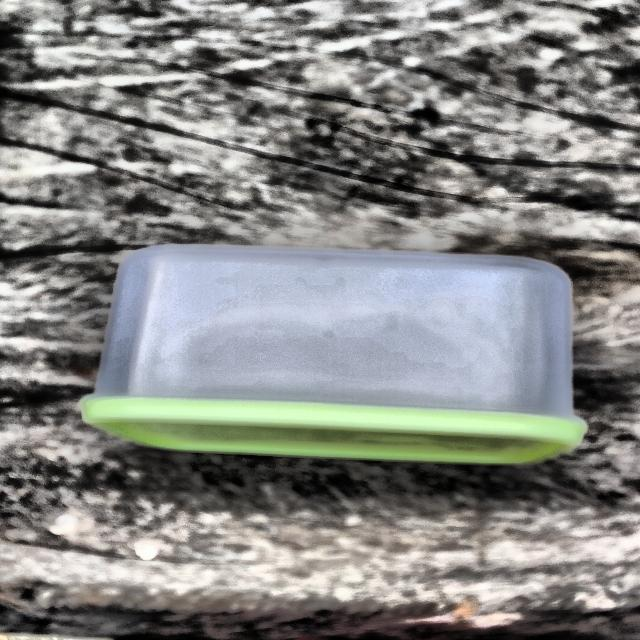plastic container: (71, 218, 602, 489)
